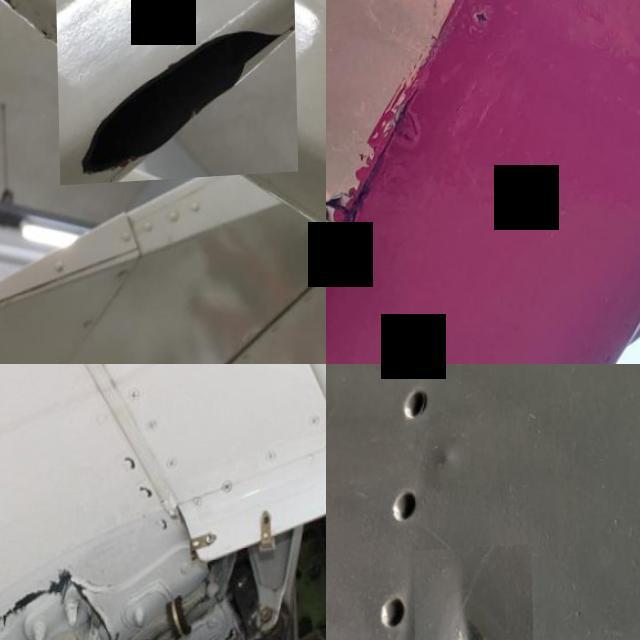Crack: (55, 0, 296, 189), (0, 573, 112, 640)
Dent: (411, 549, 532, 640)
